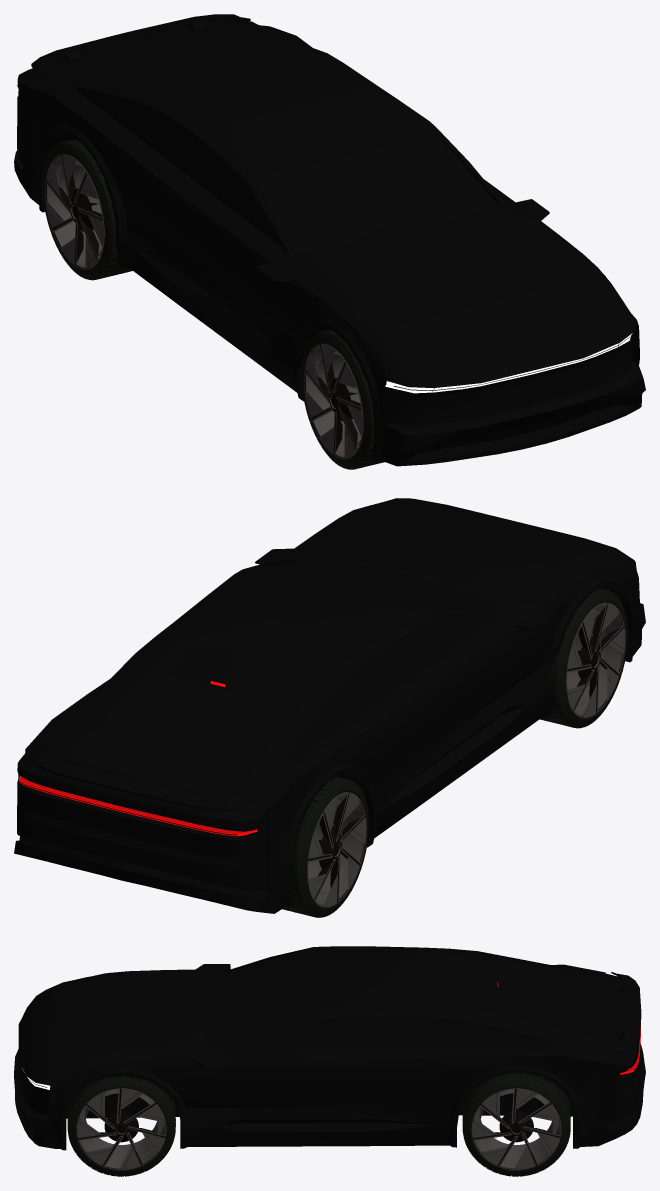
The model's file is luxury.glb.
The picture shows the model from 3 angles, top to bottom: view 1: azimuth 30°, elevation 25°; view 2: azimuth 150°, elevation 25°; view 3: azimuth 270°, elevation 25°; orthographic projection. The views are drawn at different scales.
Visible parts, largest first — view 1: Object_4, Object_5, Object_10, Object_6, Object_13, Object_7, Object_14, Object_9; view 2: Object_4, Object_5, Object_10, Object_6, Object_13, Object_7, Object_14, Object_11, Object_8; view 3: Object_4, Object_5, Object_10, Object_6, Object_13, Object_7, Object_14.
Part boxes in pixels (x1,y1,x2,y2): Object_4: (17, 14, 645, 460); Object_5: (74, 33, 495, 253); Object_10: (14, 39, 642, 466); Object_6: (19, 21, 642, 469); Object_13: (45, 154, 363, 459); Object_7: (82, 33, 503, 256); Object_14: (46, 155, 362, 457); Object_9: (385, 333, 632, 393); Object_4: (17, 498, 645, 891); Object_5: (86, 561, 494, 766); Object_10: (14, 548, 645, 913); Object_6: (19, 586, 632, 917); Object_13: (307, 602, 625, 907); Object_7: (82, 561, 503, 760); Object_14: (308, 603, 624, 905); Object_11: (19, 776, 251, 833); Object_8: (19, 681, 257, 836); Object_4: (14, 946, 641, 1149); Object_5: (210, 947, 572, 1049); Object_10: (15, 964, 645, 1150); Object_6: (28, 977, 642, 1176); Object_13: (77, 1088, 561, 1169); Object_7: (220, 946, 566, 1050); Object_14: (78, 1088, 560, 1168).
Bounding box in the file's own units: 5.66 × 3.87 × 14.61.
10 materials, 10 textured.
